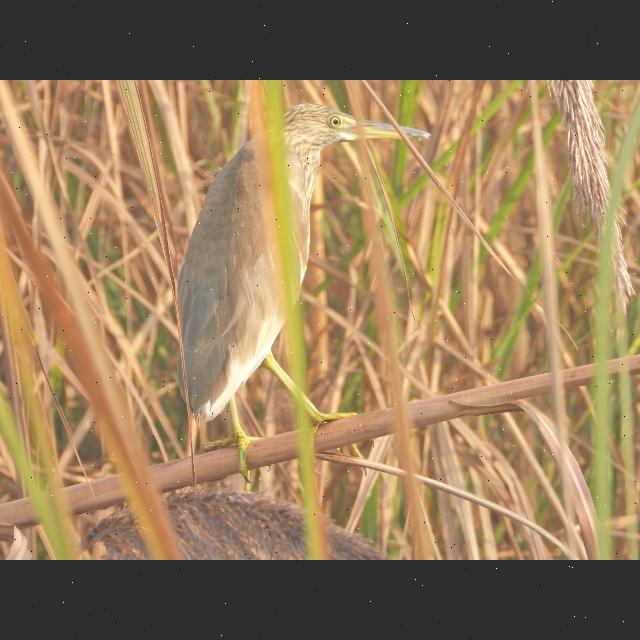heron: (177, 98, 437, 446)
